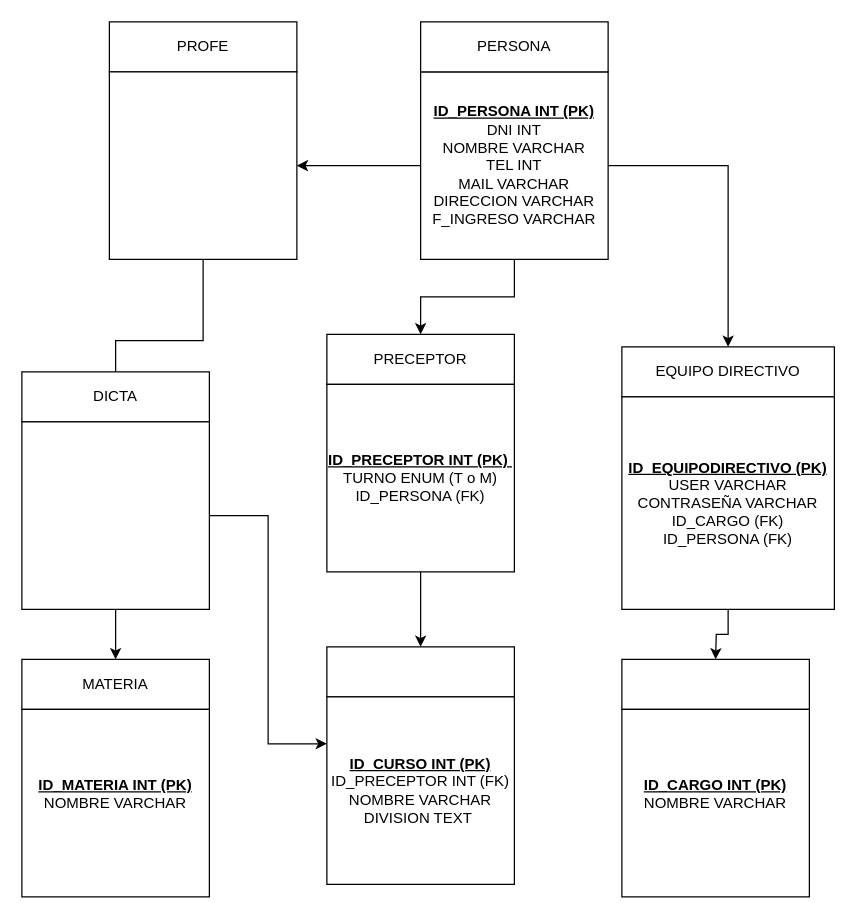
The diagram is 856 pixels wide and 919 high, and some of its shapes have lost their labels. The shapes that lost their labels are listed below. From the top down, each one's centre as x and y in pixels, then its label:
At (x=202, y=165): "ID_PROFE INT (PK) TURNO VARCHAR ID_PERSONA (FK)".
At (x=115, y=515): "ID_DICTA INT (PK) DIA DATE HORA TIME ID_PROFE (FK) ID_MATERIA (FK) ID_CURSO (FK)".
At (x=420, y=671): "CURSO".
At (x=715, y=683): "CARGO".
